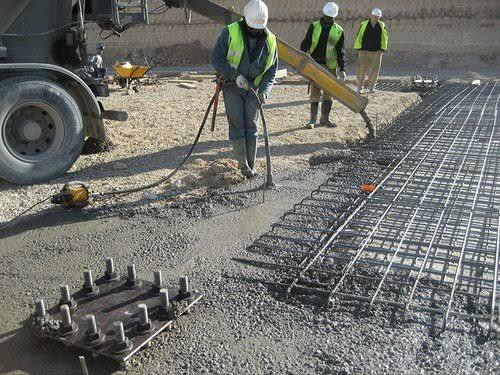hard hat: (240, 1, 274, 29), (323, 3, 340, 17), (371, 10, 383, 14)
safe person: (212, 1, 284, 172), (302, 2, 351, 55), (359, 8, 385, 89)
